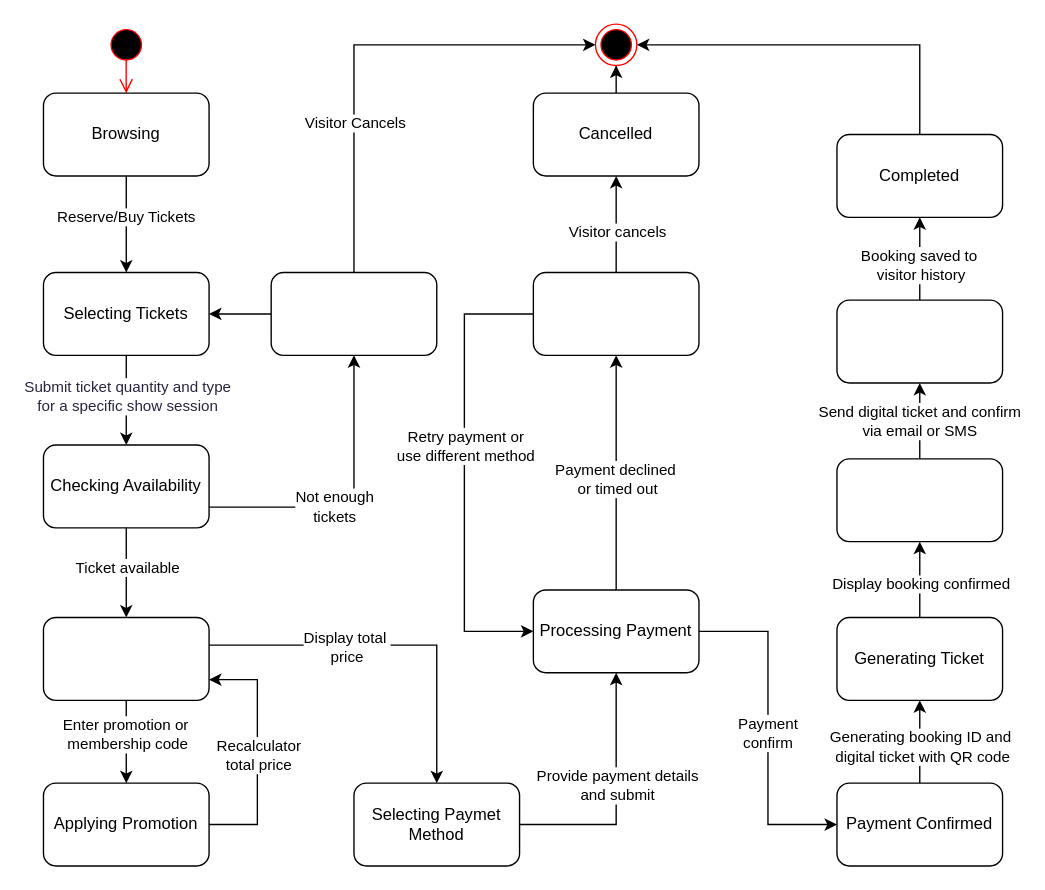
The diagram is 1045 pixels wide and 890 high, and some of its shapes have lost their labels. Here are the shapes that lost their labels. From the top down, the centre of each, then its label:
At (x=353, y=313): "Show Not Enough Tickets".
At (x=615, y=313): "Payment Failed".
At (x=919, y=341): "Notifying Visitor".
At (x=919, y=499): "Booking Confirmed".
At (x=125, y=658): "Calculating Price".
